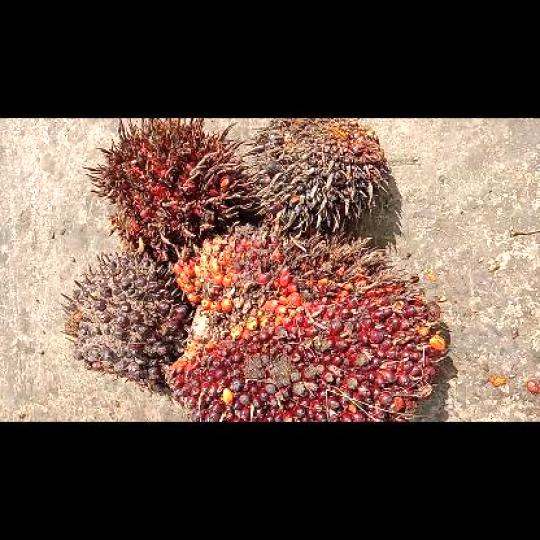kurang masak: (63, 252, 189, 394)
masak: (169, 224, 448, 420)
terlalu masak: (92, 118, 248, 258)
